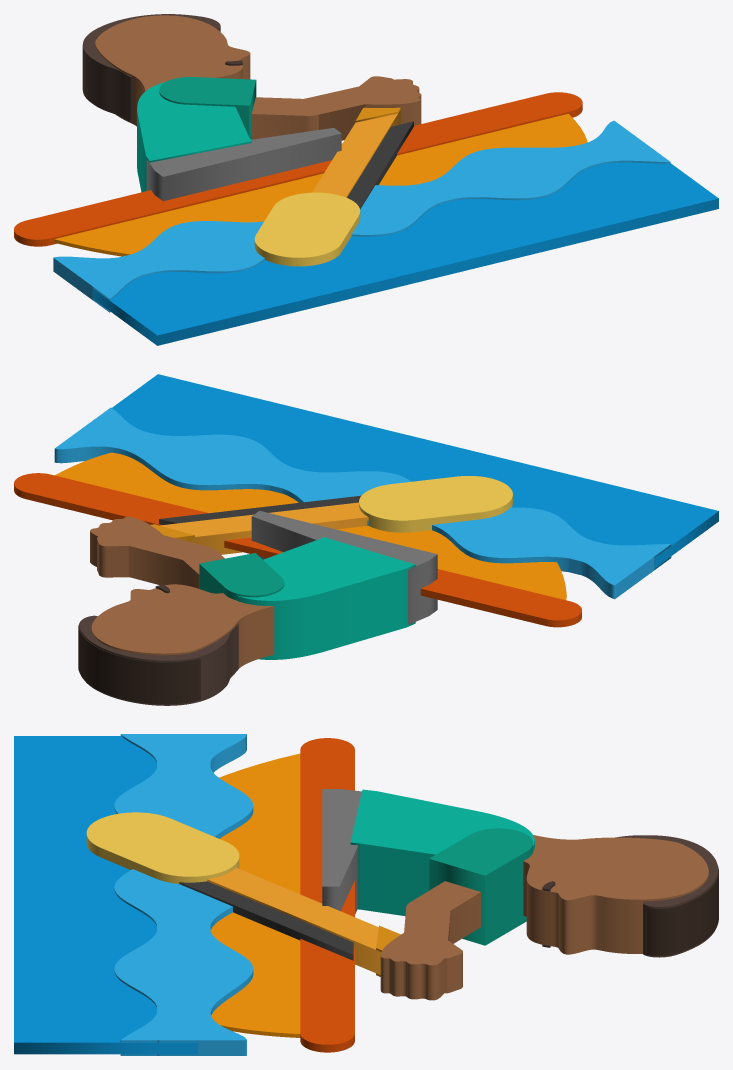
Rendered from emoji_u1f6a3_1f3fe_200d_2642.glb.
The picture shows the model from 3 angles, top to bottom: view 1: azimuth 30°, elevation 25°; view 2: azimuth 150°, elevation 25°; view 3: azimuth 270°, elevation 25°; orthographic projection. The views are drawn at different scales.
Parts seen in each view (by area): view 1: emoji_u1f6a3_1f3fe_200d_2642; view 2: emoji_u1f6a3_1f3fe_200d_2642; view 3: emoji_u1f6a3_1f3fe_200d_2642.
Boxes of the visible parts, x1,y1,x2,y2 form: emoji_u1f6a3_1f3fe_200d_2642: (14, 14, 718, 345); emoji_u1f6a3_1f3fe_200d_2642: (14, 374, 718, 705); emoji_u1f6a3_1f3fe_200d_2642: (14, 734, 718, 1055).
Bounding box in the file's own units: 0.0338 × 0.0036 × 0.0329.
